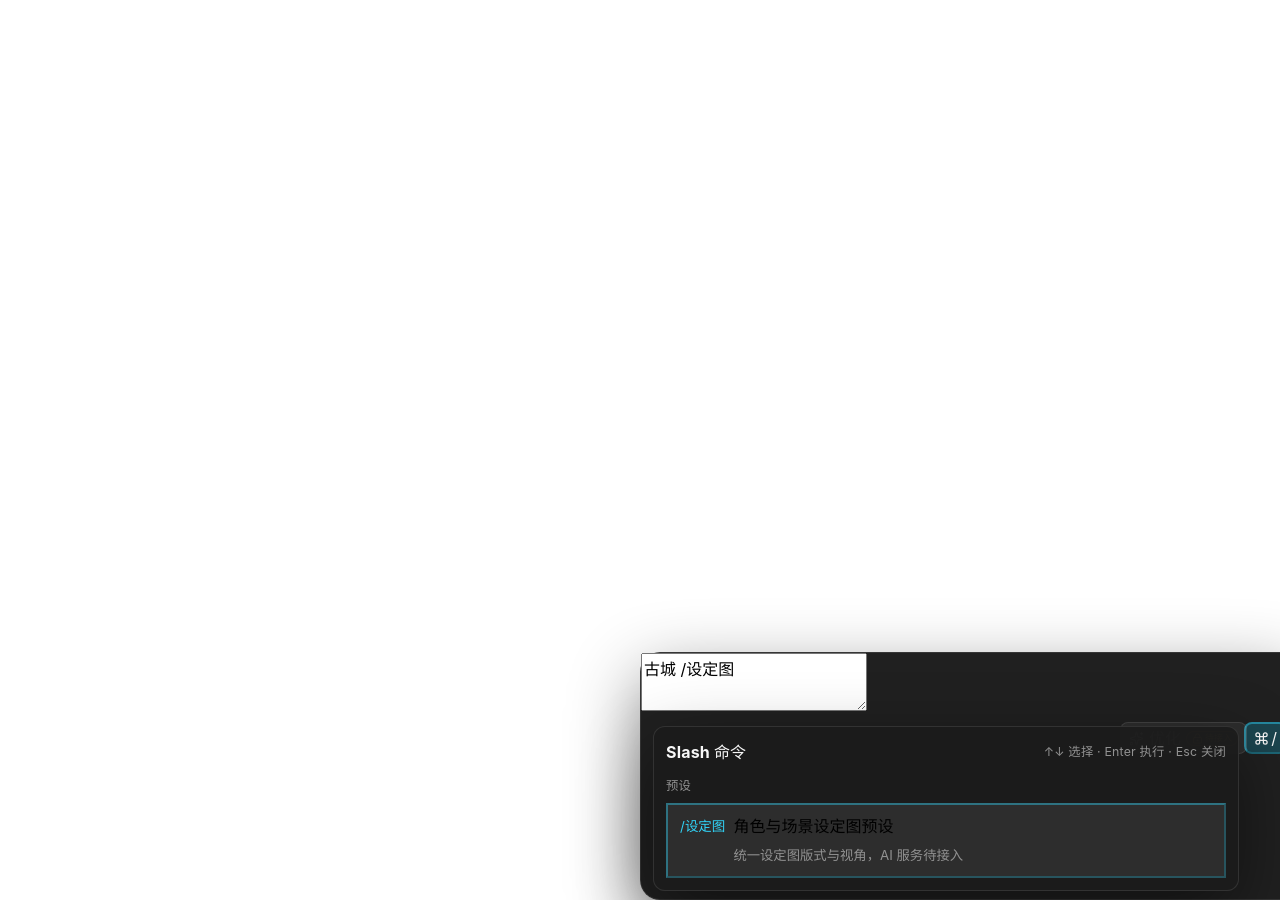
Test: prompt assist UI › explains AI slash presets before copying their prompt into the image node
The width and height of the screenshot is (1280, 900).
(page scrolled)
What coordinates should you click on to do the following:
click the option "/设定图 角色与场景设定图预设 统一设定图版式与视角，AI 服务待接入"
I would click on:
 (705, 826)
Its box is [666,804,1226,878].
(page scrolled)
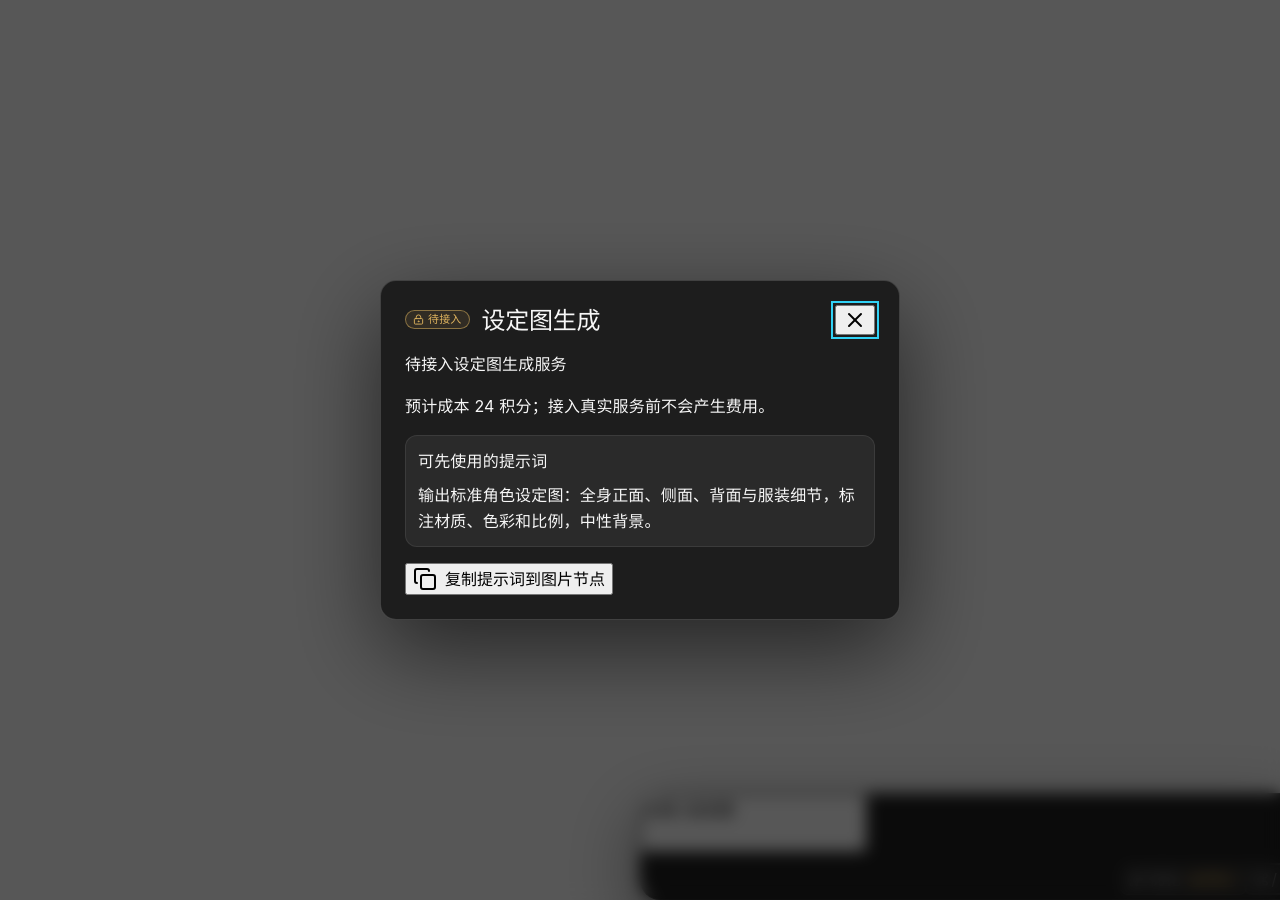
Now the dialog named "设定图生成功能待接入" shows "待接入设定图生成服务", box [405,354,567,374]
Now the dialog named "设定图生成功能待接入" shows "预计成本 24 积分", box [380,280,900,620]
What coordinates should you click on to do the following:
click the button "复制提示词到图片节点"
I would click on:
 (509, 579)
Its box is [405,563,613,595].
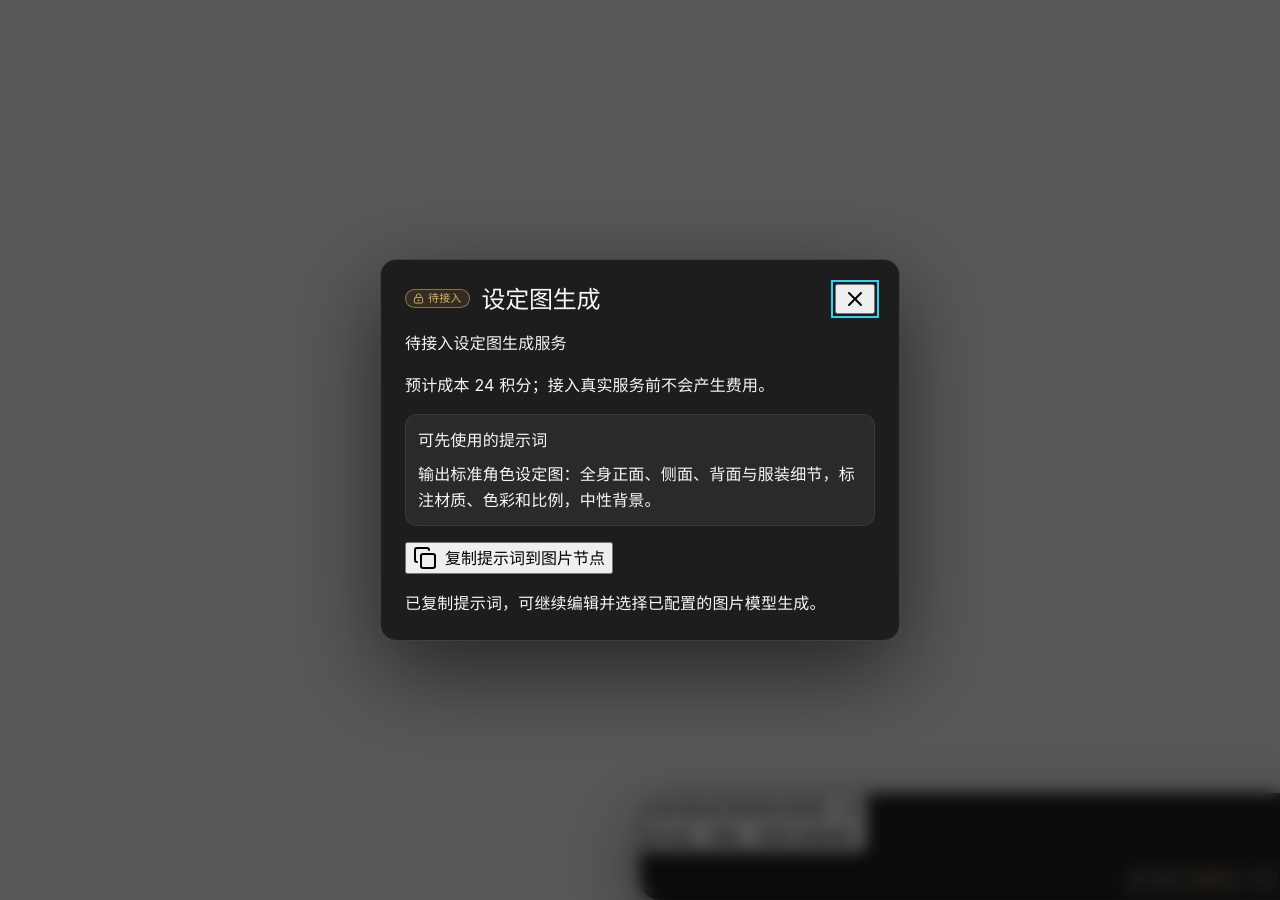
Now the message shows "已复制提示词", box [405,593,826,613]
